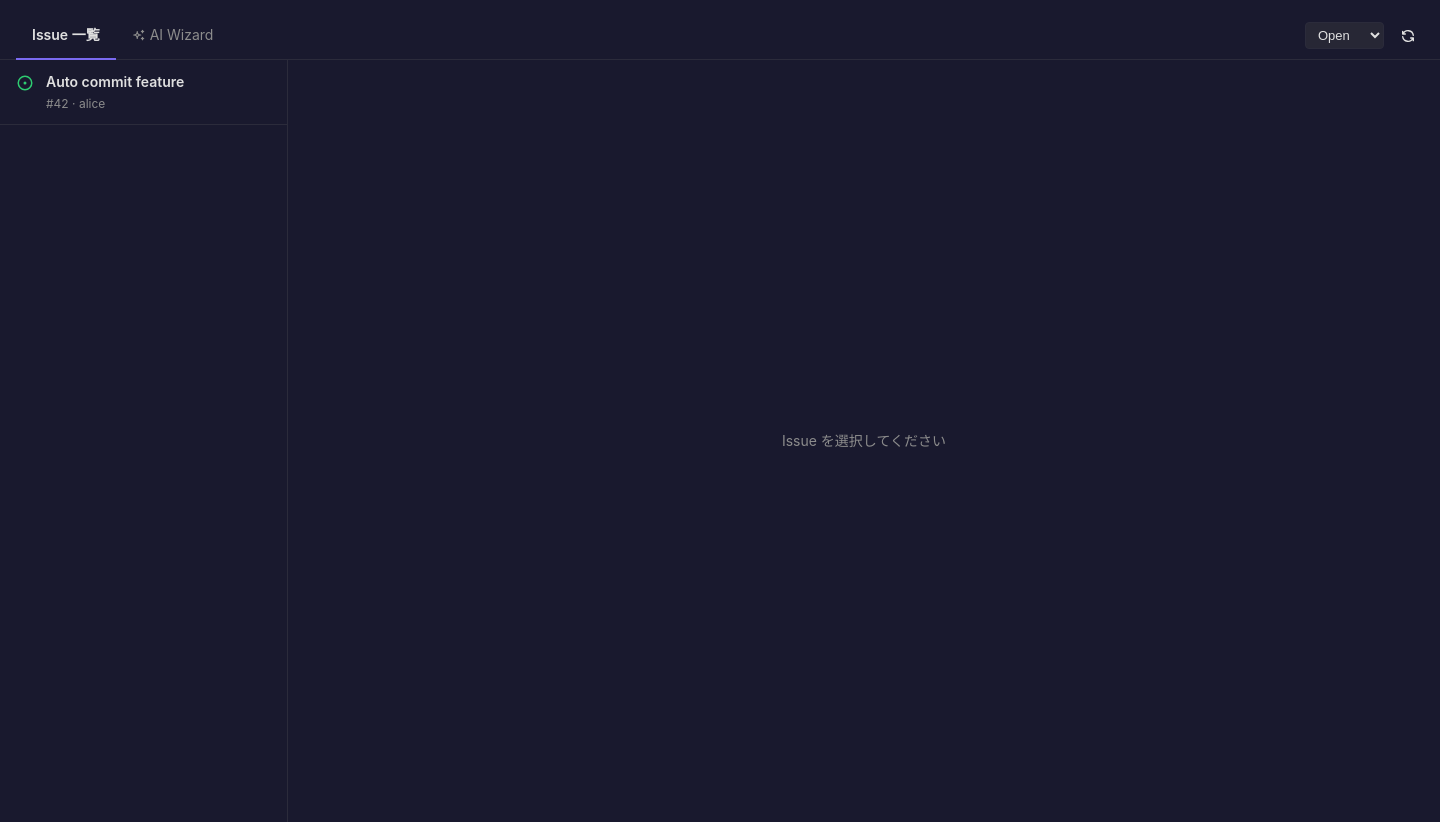
Test case: IssuesScreen › AI Wizard タブをクリックするとウィザード画面に切り替わる
The image size is (1440, 822).
Click the button "AI Wizard" at (172, 36), box 116,12 -> 229,60
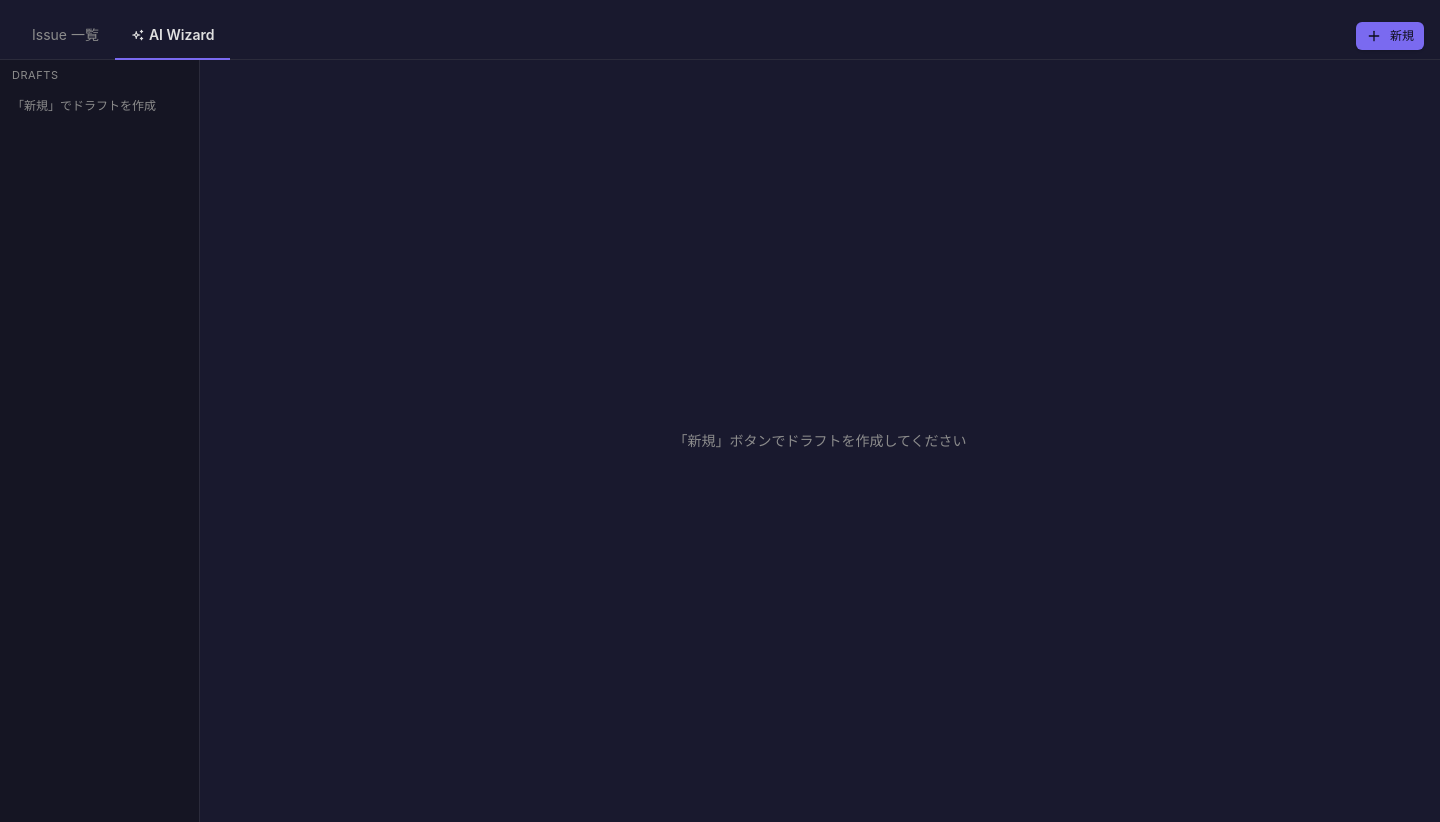
Expected: the text "Drafts" is shown, 12,68 -> 59,82
